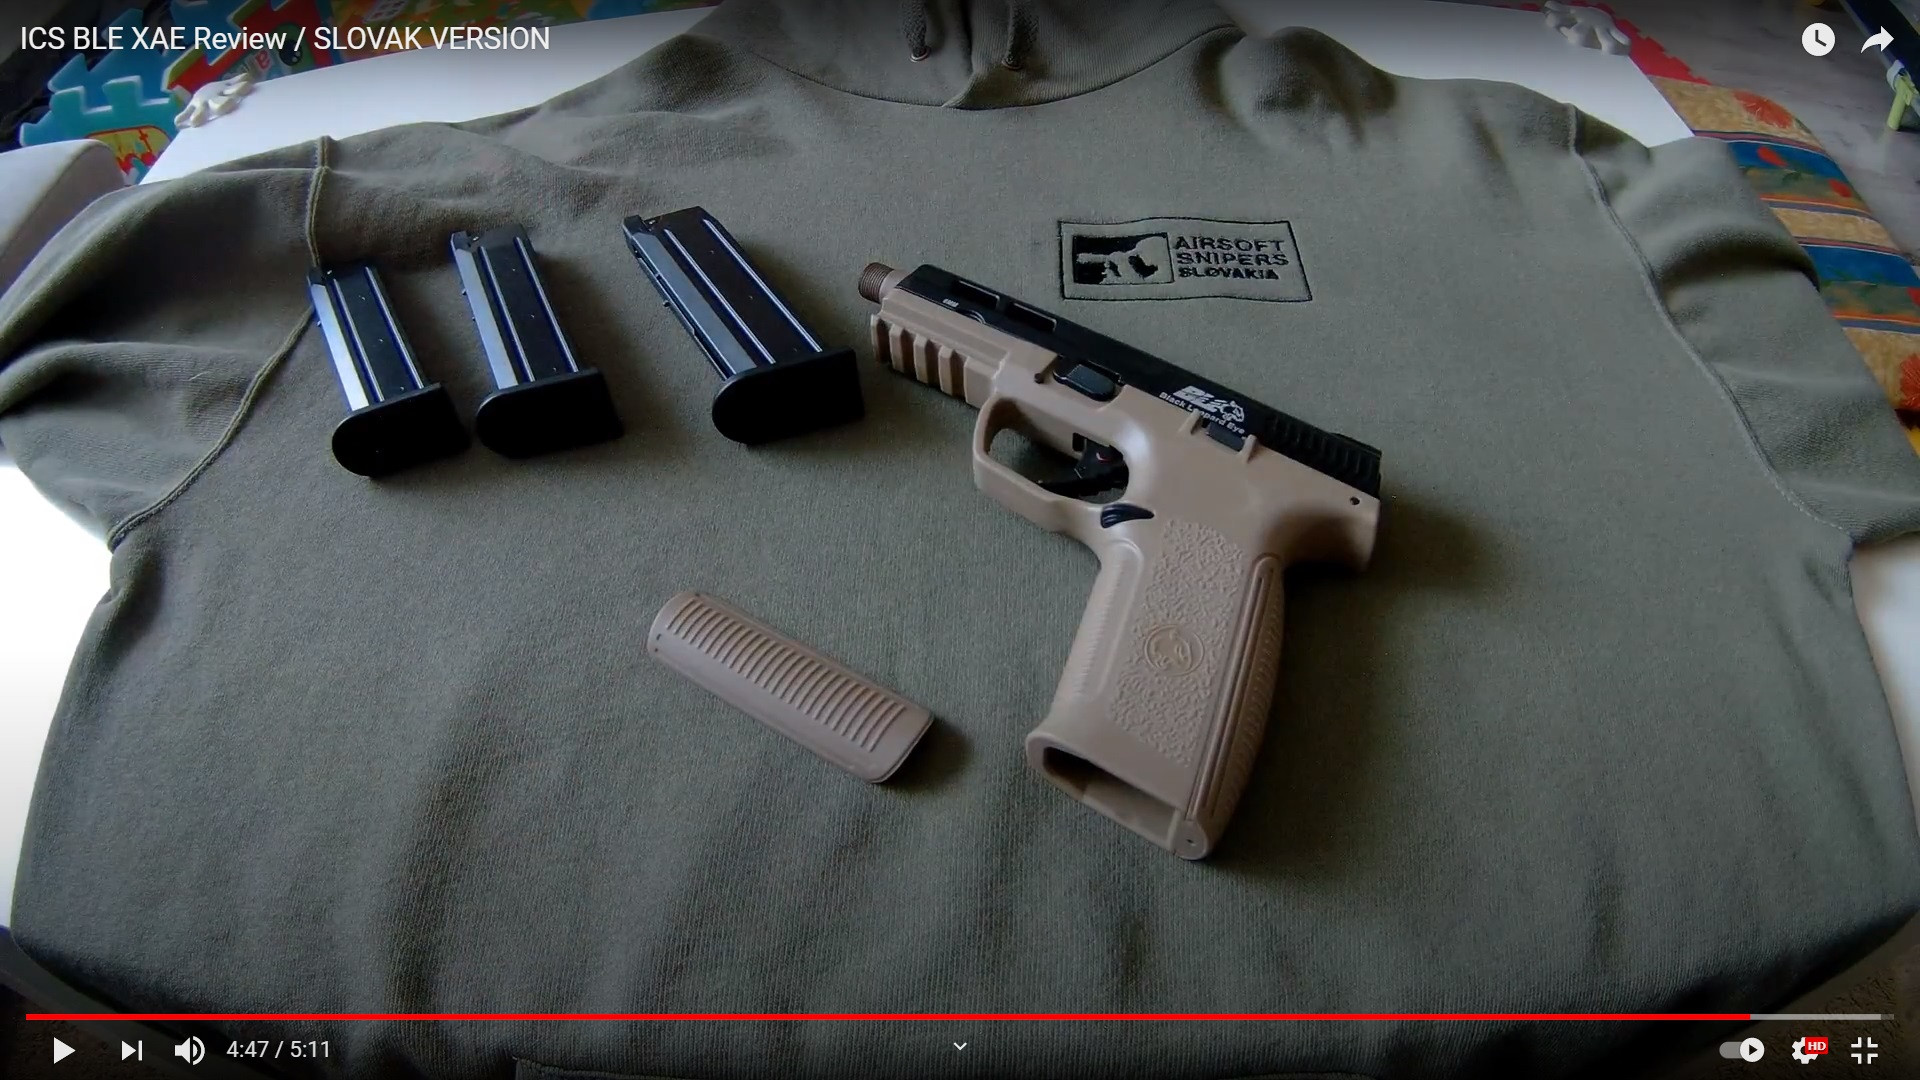asg_ics_ble_xae: (855, 237, 1408, 866)
